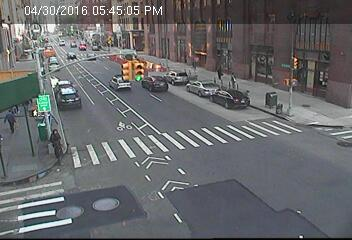neg: (44, 188, 60, 209), (121, 154, 136, 174), (222, 172, 237, 191), (108, 78, 121, 94), (260, 88, 272, 104), (27, 105, 38, 120), (286, 57, 297, 72), (186, 124, 197, 139), (161, 42, 171, 56), (175, 74, 183, 85), (76, 39, 84, 49)
pos: (43, 127, 68, 161), (212, 64, 227, 84), (227, 72, 240, 89)
